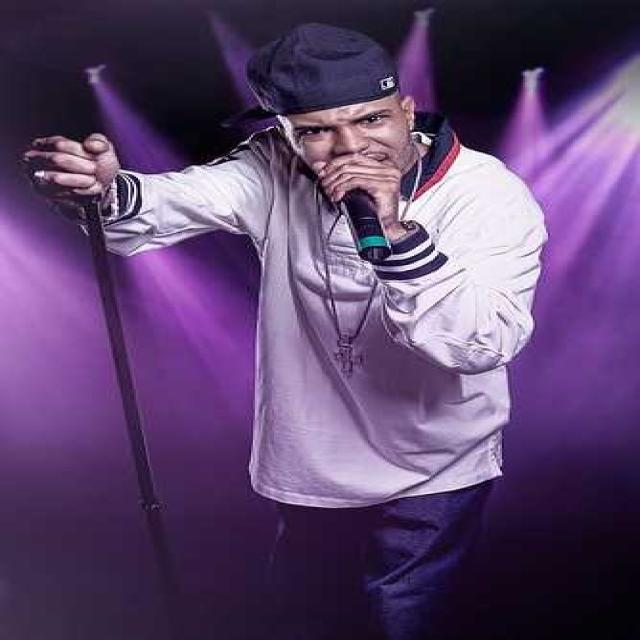microphone: (276, 146, 444, 284)
